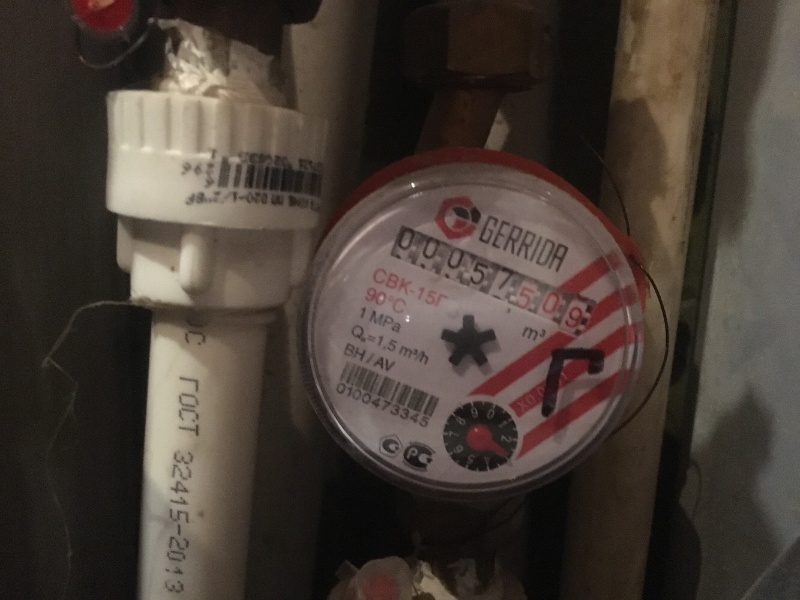meter: (393, 225, 593, 328)
